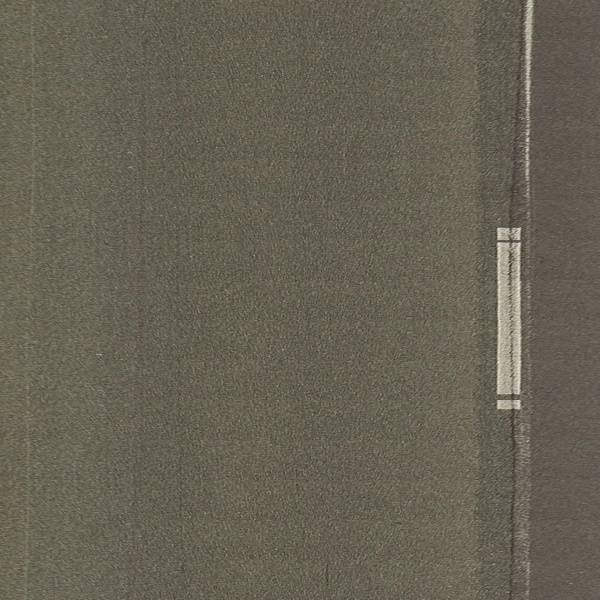road_damage: (503, 1, 530, 600)
